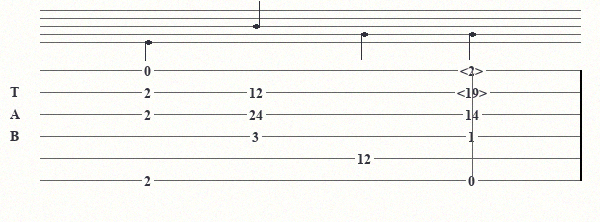0: (144, 63, 155, 77), (468, 173, 479, 187)
1: (468, 129, 479, 143)
12: (249, 85, 267, 99), (357, 151, 375, 165)
14: (465, 107, 483, 121)
2: (144, 85, 155, 99), (144, 107, 155, 121), (144, 173, 155, 187)
24: (249, 107, 267, 121)
3: (252, 129, 263, 143)
harmonic: (457, 85, 491, 99), (460, 63, 487, 77)
